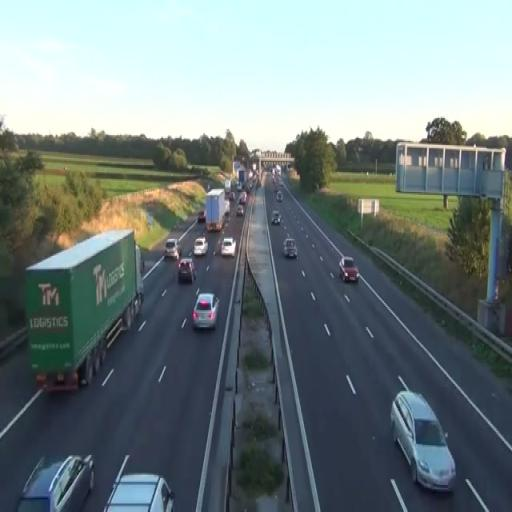Car: (390, 389, 456, 494), (15, 453, 95, 512), (104, 472, 176, 512), (192, 292, 220, 330), (339, 256, 359, 284), (178, 258, 196, 284), (165, 238, 182, 261), (221, 236, 236, 258), (283, 237, 298, 259), (193, 236, 208, 256), (271, 210, 281, 225)
Truck: (24, 228, 144, 394), (205, 188, 225, 232)
